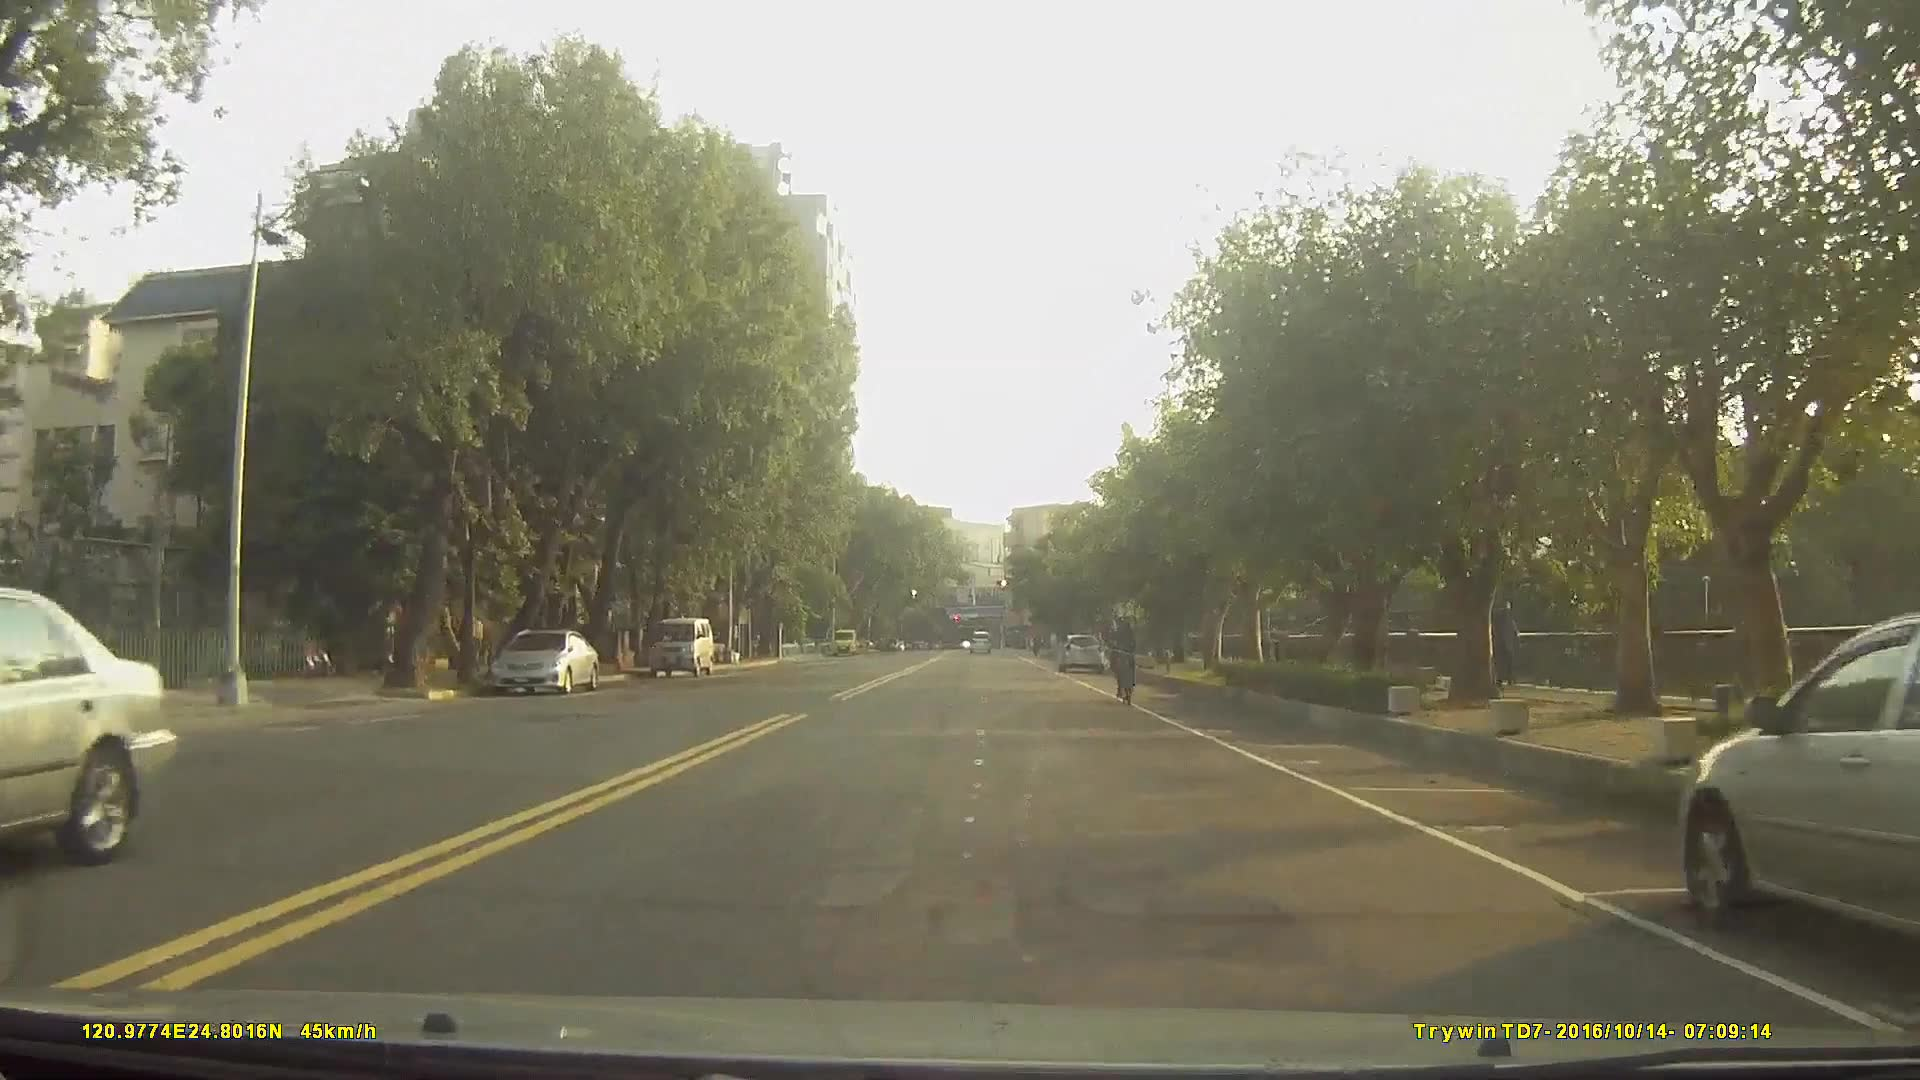rider: (1109, 613, 1142, 708)
vehicle: (1679, 607, 1920, 943), (0, 585, 178, 865), (487, 628, 599, 697), (645, 614, 715, 678), (1055, 630, 1103, 670), (967, 626, 992, 652)
